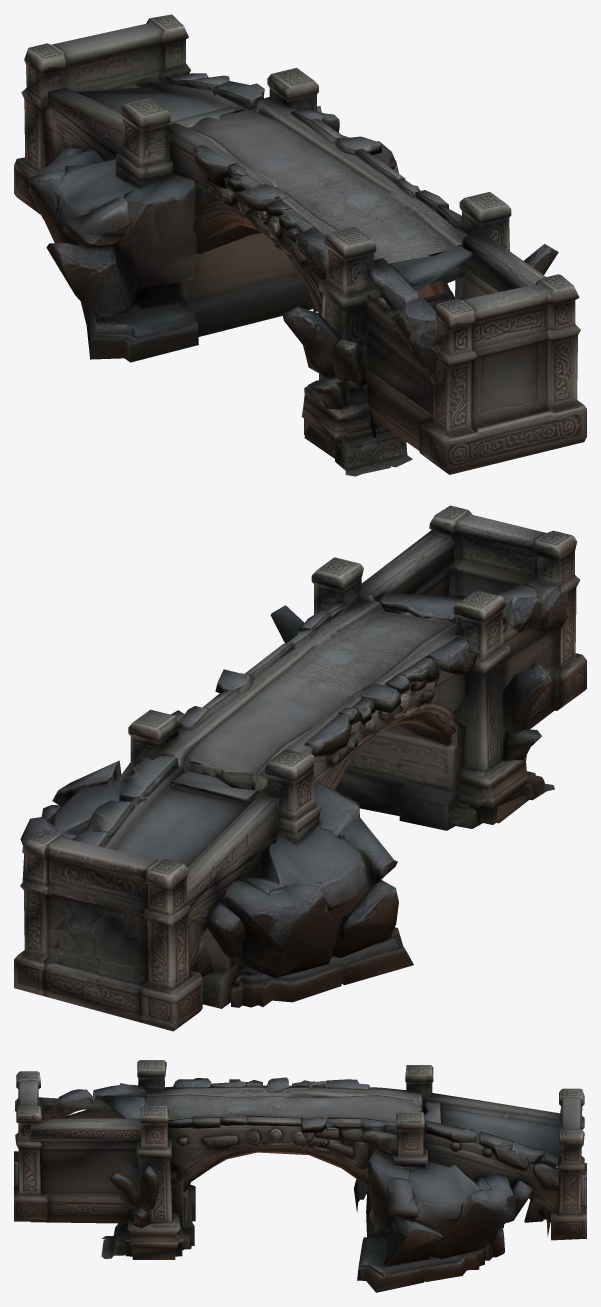
Rendered from highland_crossing_bridge.glb.
3 renders of one model, top to bottom at view 1: azimuth 30°, elevation 25°; view 2: azimuth 150°, elevation 25°; view 3: azimuth 270°, elevation 25°, orthographic. The views are drawn at different scales.
Size of the model in its own units: 0.8154 by 0.5 by 1.71.
Materials: 1 (1 with a texture image).
